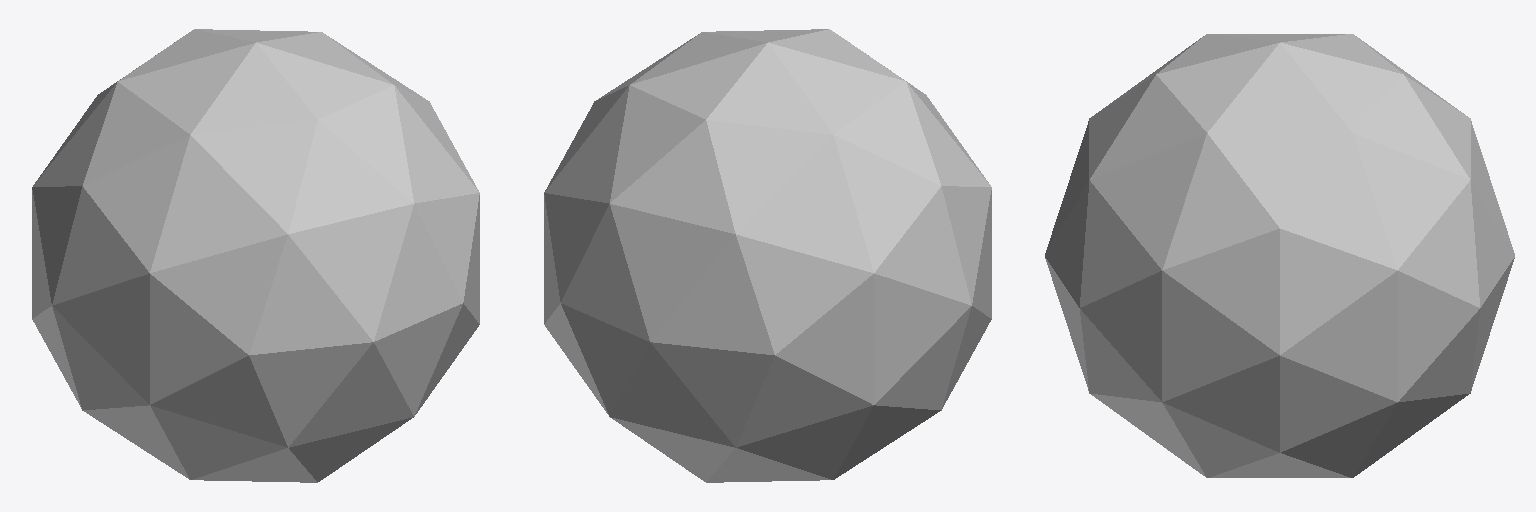
File: ProjectName.obj
The picture shows the model from 3 angles: view 1: azimuth 30°, elevation 25°; view 2: azimuth 150°, elevation 25°; view 3: azimuth 270°, elevation 25°; orthographic projection.
Visible parts, largest first — view 1: 000_Polyhedron; view 2: 000_Polyhedron; view 3: 000_Polyhedron.
Part boxes in pixels (x1,y1,x2,y2): 000_Polyhedron: (32,29,479,482); 000_Polyhedron: (544,29,991,482); 000_Polyhedron: (1045,34,1514,477).
Bounding box in the file's own units: 68.44 × 68.44 × 68.44.